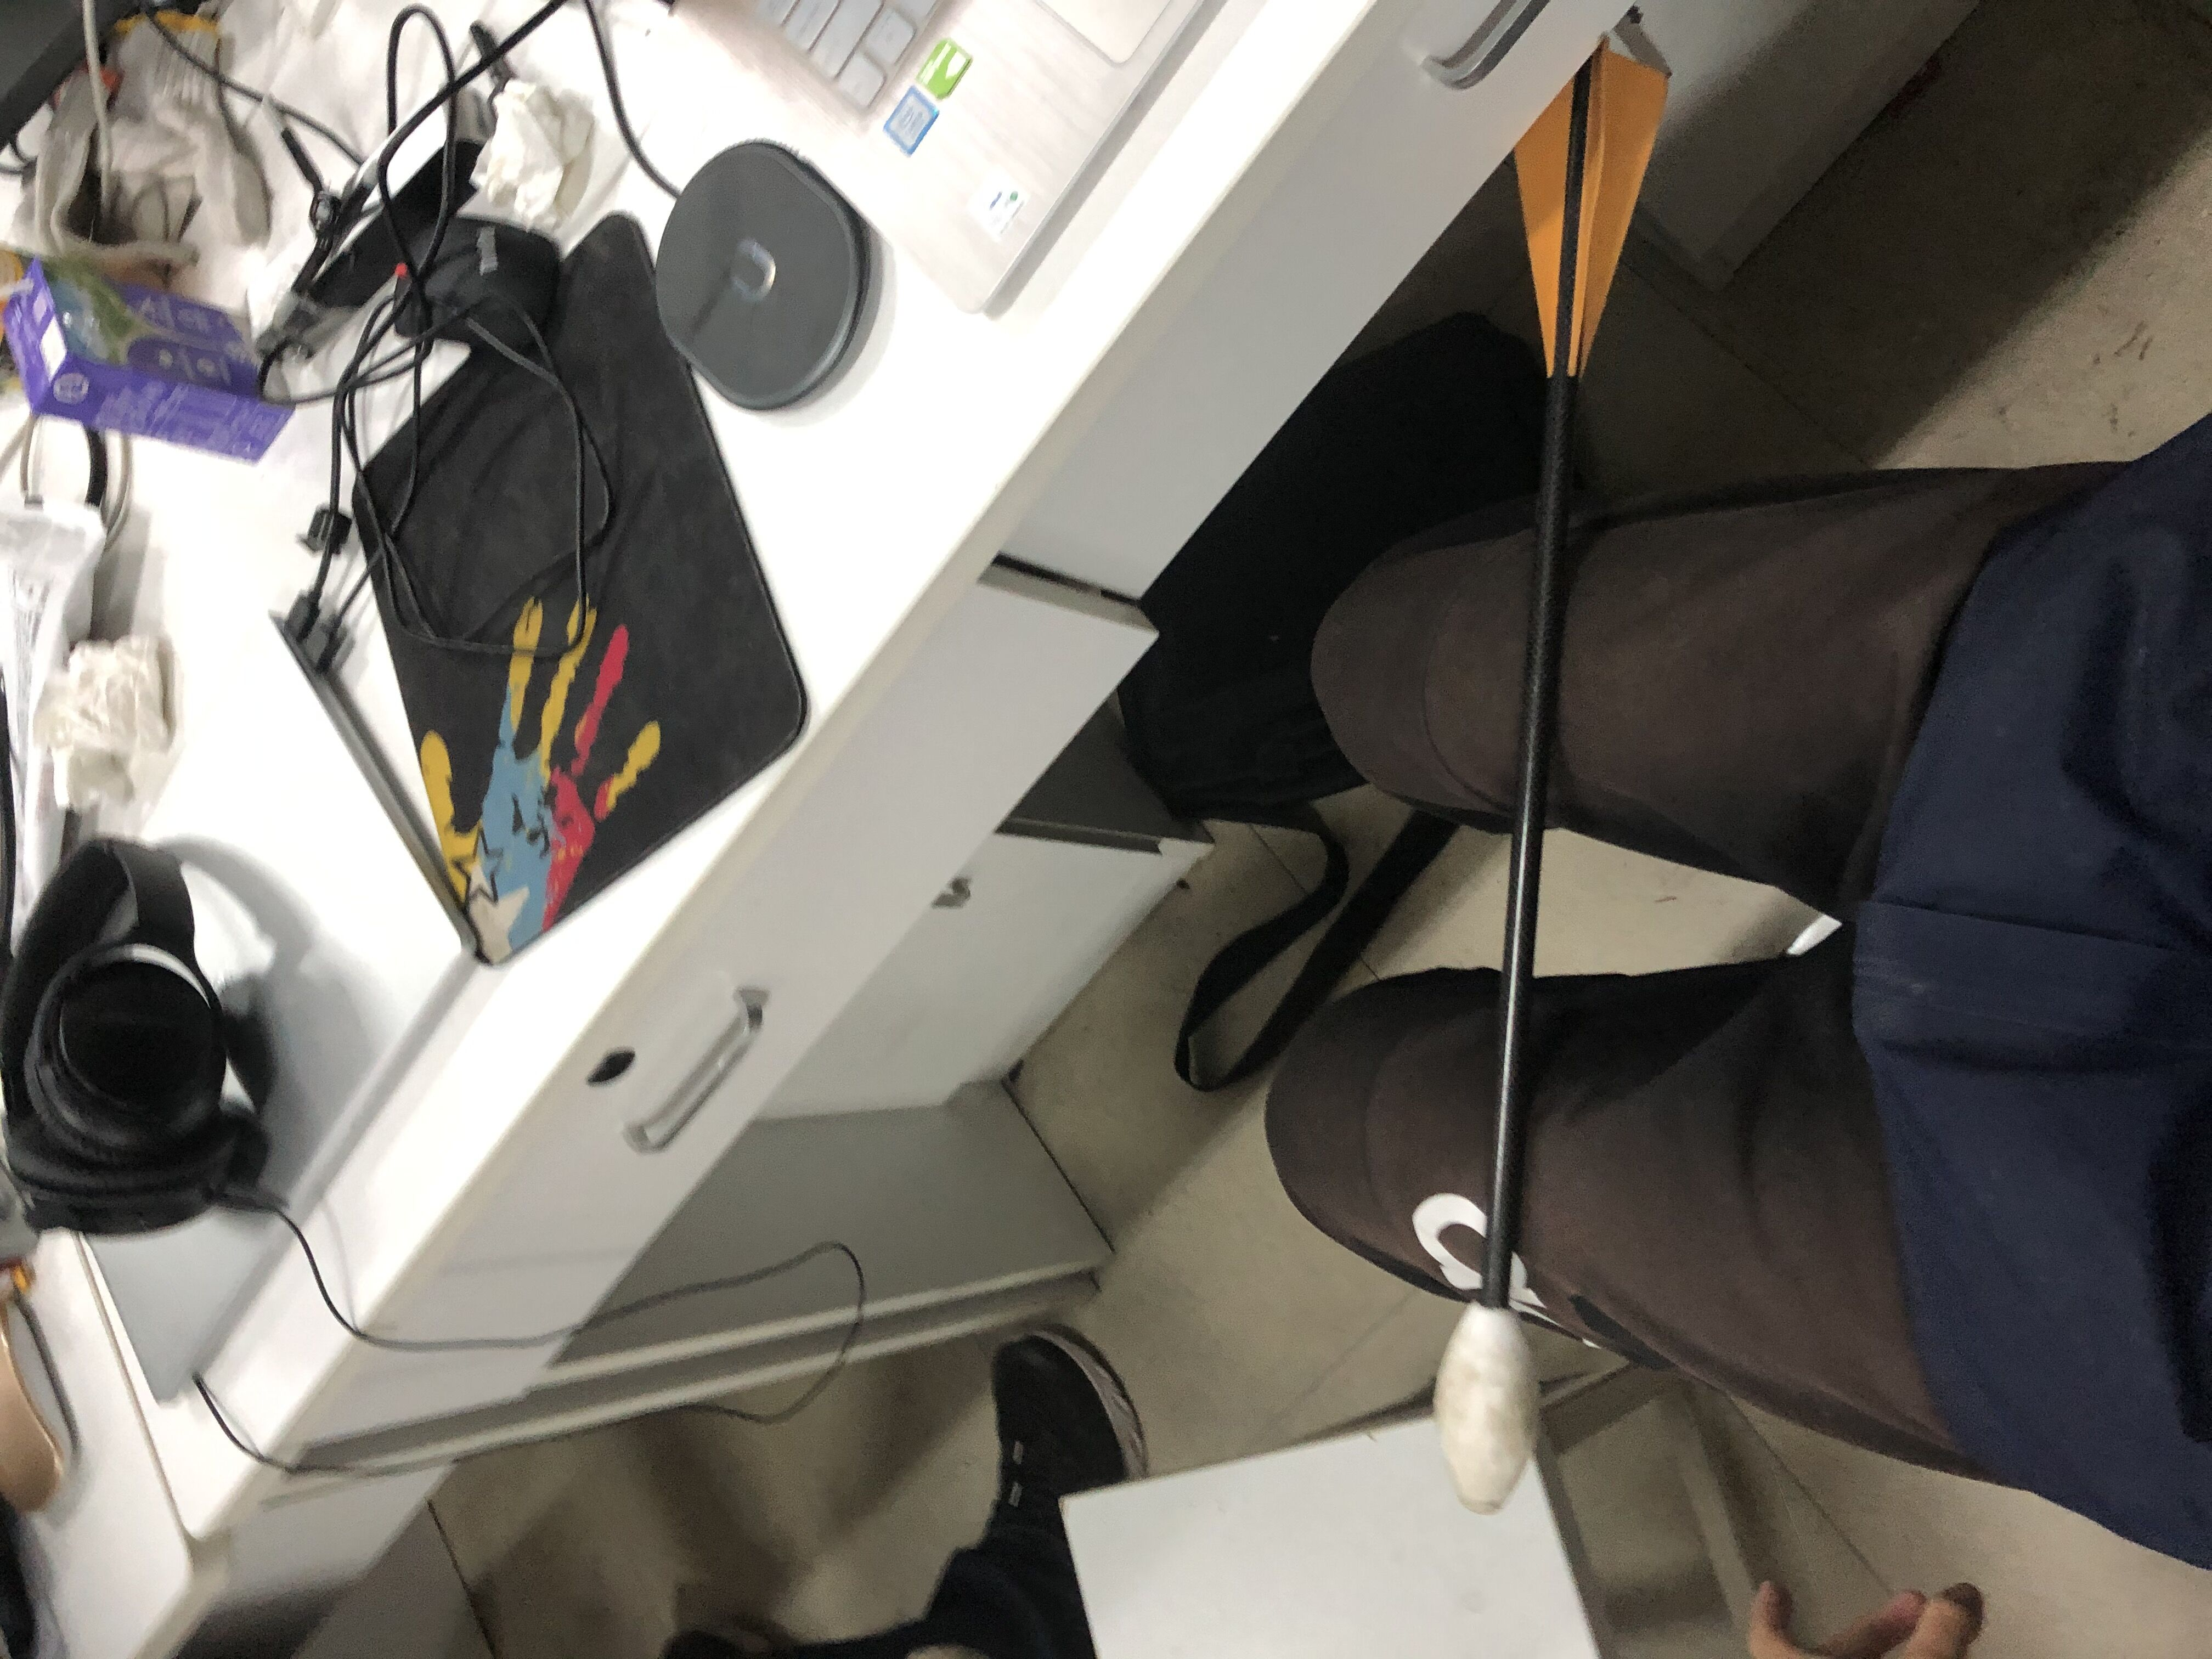arrow: (1430, 26, 1672, 1514)
arrowFront: (1430, 1293, 1545, 1518)
